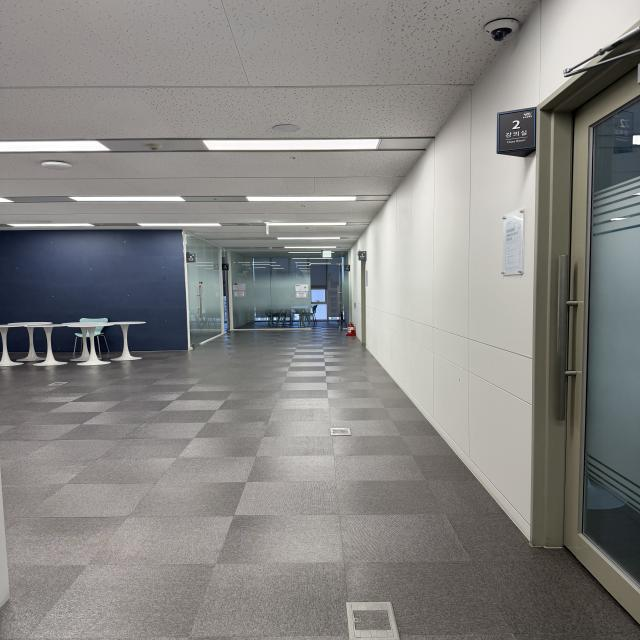sign: (497, 114, 536, 148)
